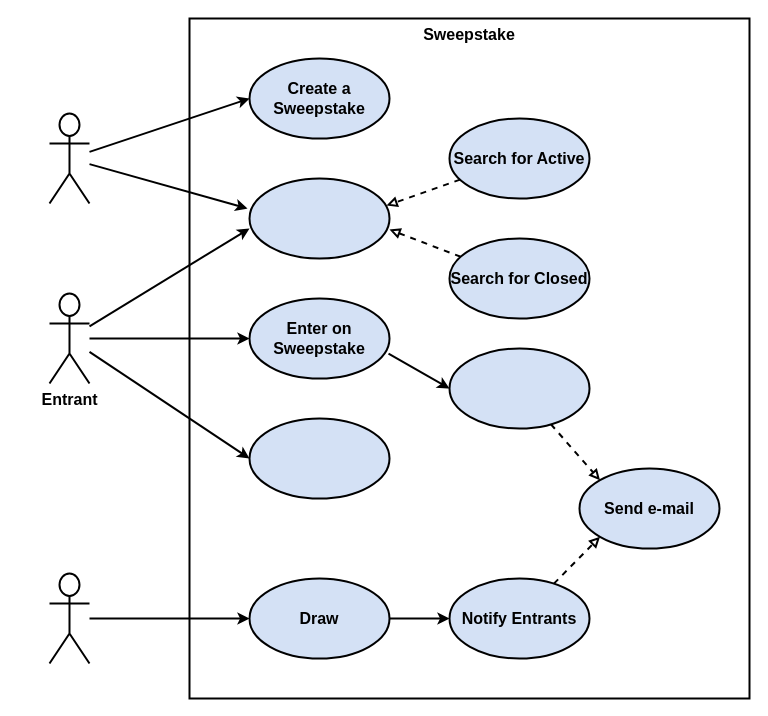
Some shapes in this 768 by 716 pixel diagram are drawn without their labels. The centre of each missing label's shape, as x and y in pixels:
"Administrator" belongs at point (69, 158).
"Confirm Registration" belongs at point (319, 458).
"Search for Sweepstakes" belongs at point (319, 218).
"Send confirmation" belongs at point (519, 388).
"System" belongs at point (69, 618).
